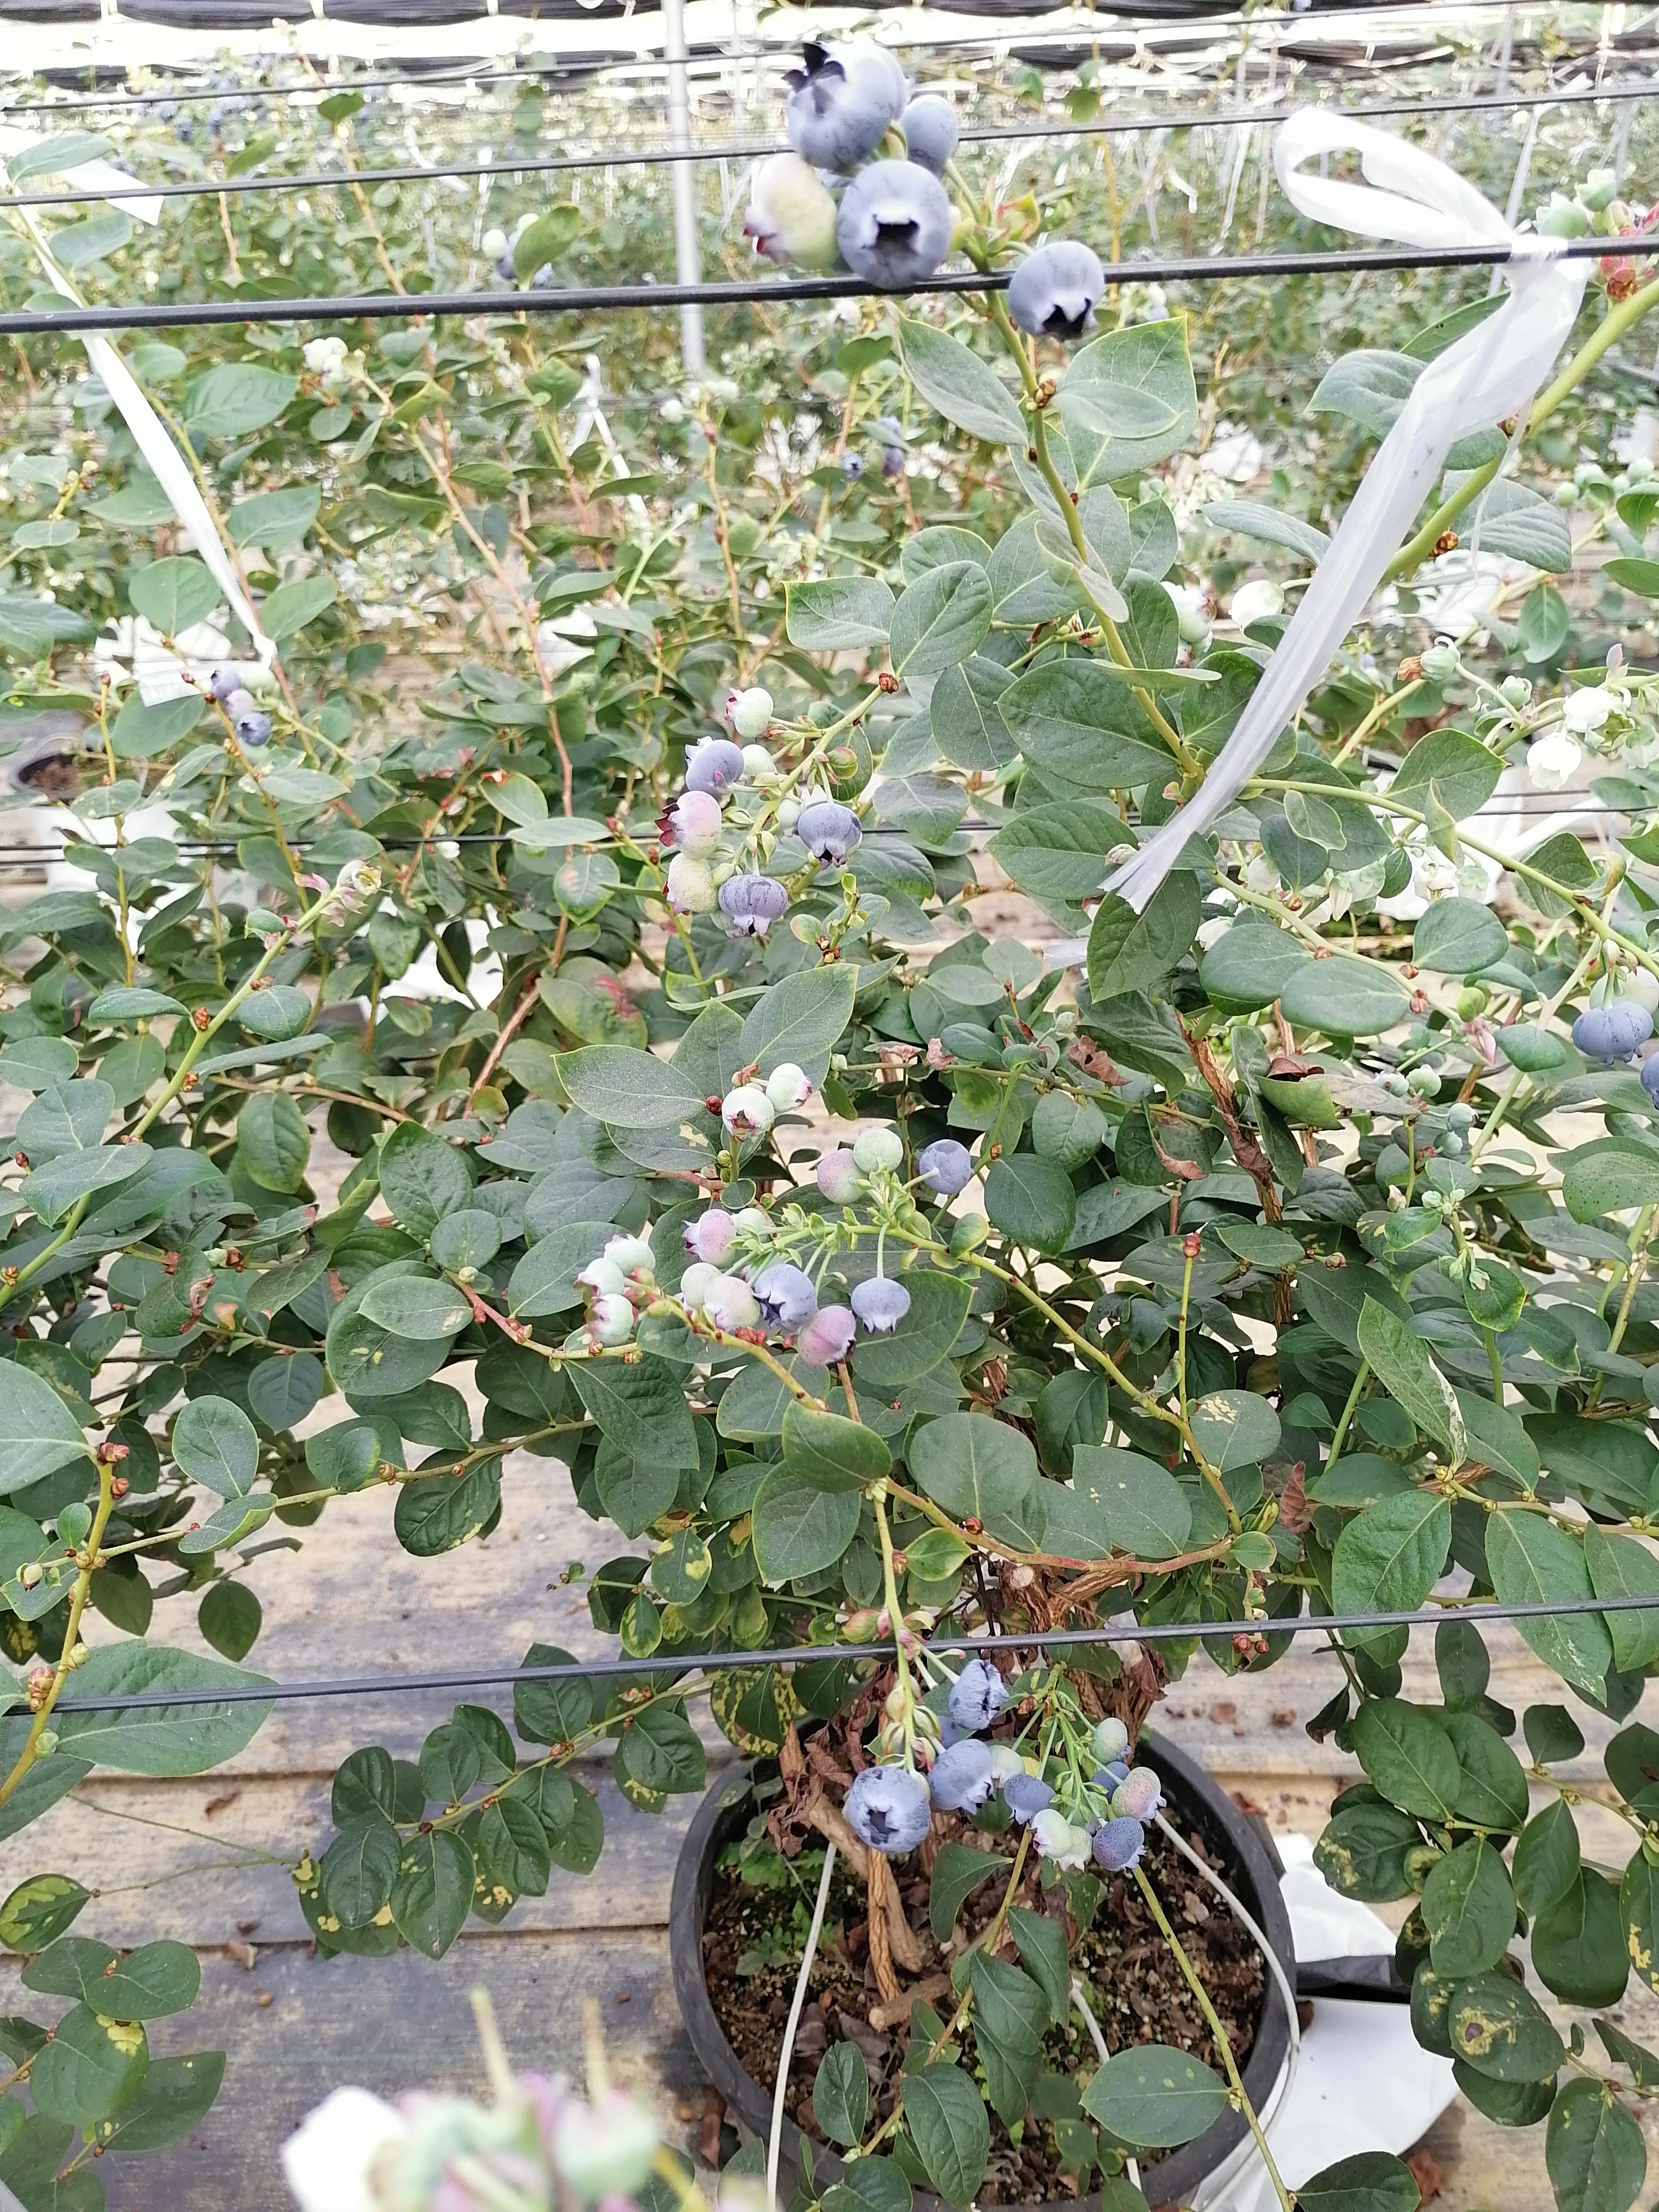ripe-blueberries: (784, 40, 906, 171), (835, 157, 951, 289), (1006, 240, 1107, 343), (847, 1766, 929, 1853), (897, 92, 962, 179), (927, 1740, 997, 1815), (1572, 1001, 1654, 1064), (716, 874, 788, 937), (796, 803, 861, 871), (753, 1264, 817, 1332), (683, 735, 744, 794), (850, 1277, 911, 1334), (1093, 1817, 1145, 1878), (918, 1139, 971, 1193), (1004, 1775, 1058, 1825), (1089, 1761, 1129, 1806), (235, 712, 272, 747), (209, 669, 242, 702), (1640, 1050, 1657, 1109), (938, 1716, 960, 1749), (840, 455, 864, 482), (884, 449, 903, 477)
